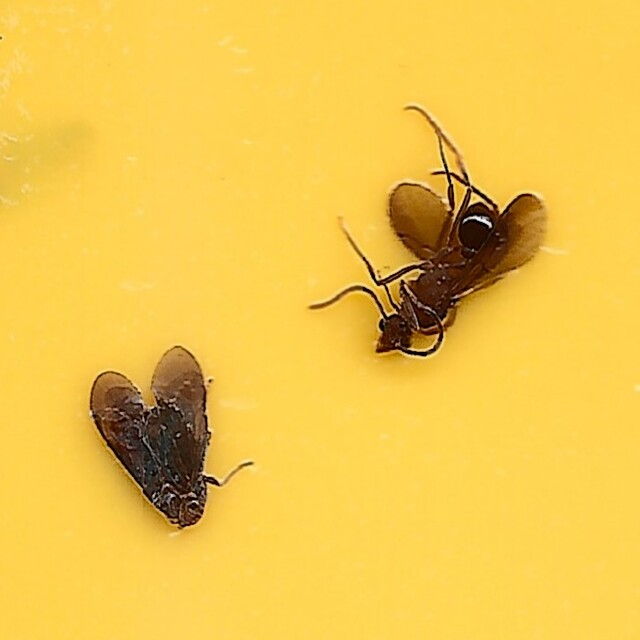Hemiptera: (92, 340, 217, 533)
Hymenoptera: (321, 107, 548, 362)
